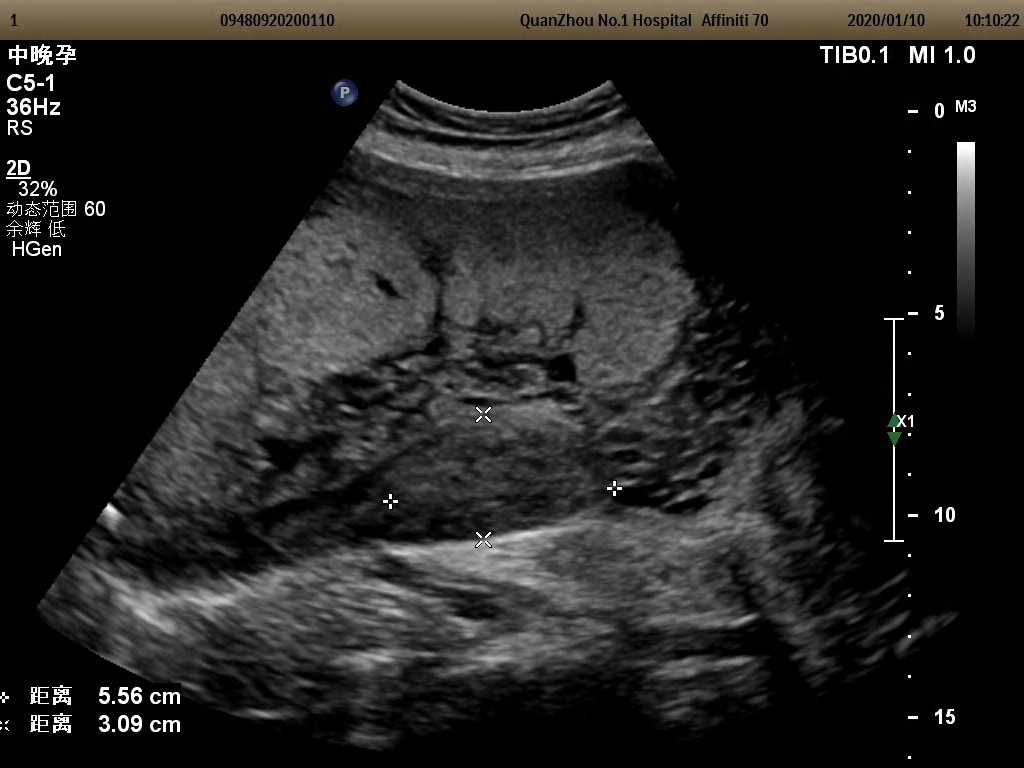肌瘤: (400, 421, 599, 526)
